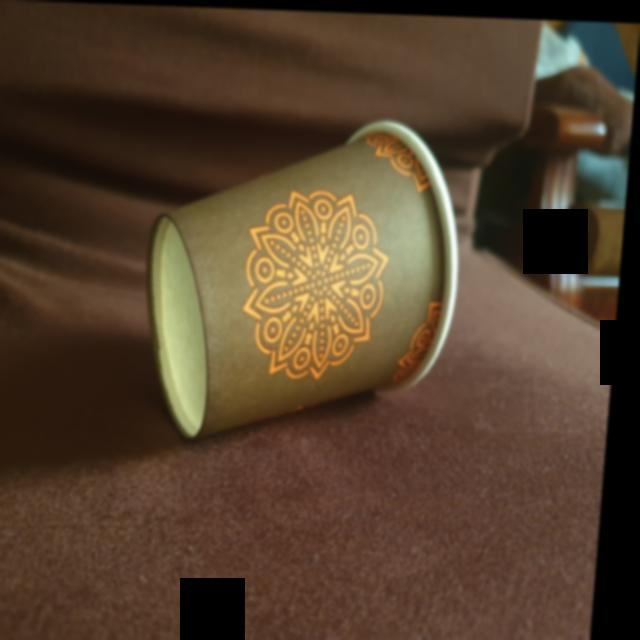cups: (138, 109, 478, 454)
